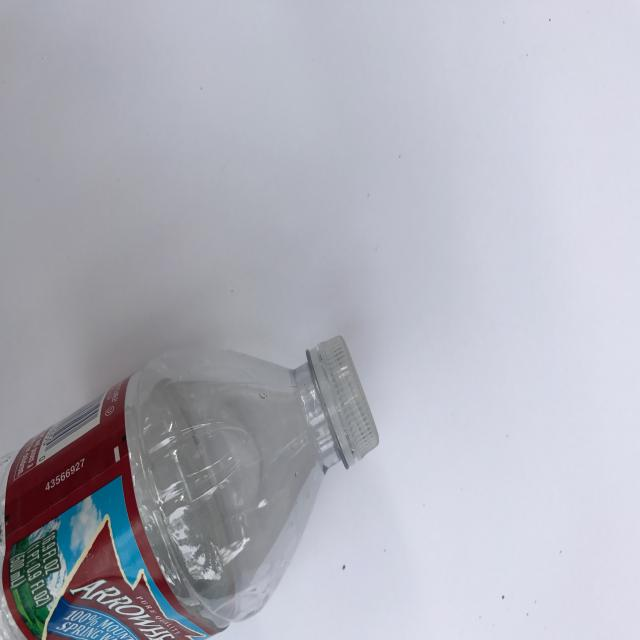plastic: (0, 333, 379, 640)
